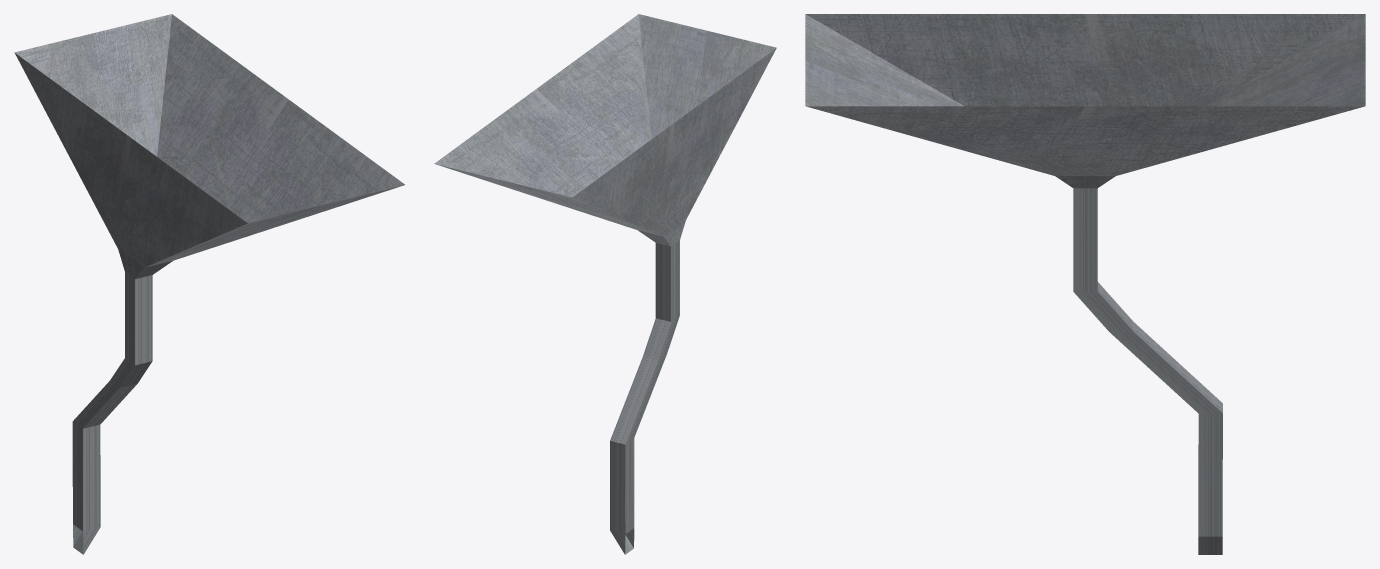
File: sistema_lluvia.fbx
3 renders of one model, left to right at view 1: azimuth 30°, elevation 25°; view 2: azimuth 150°, elevation 25°; view 3: azimuth 270°, elevation 25°, orthographic. The views are drawn at different scales.
Parts seen in each view (by area): view 1: Plane; view 2: Plane; view 3: Plane.
Part boxes in pixels (x1=…): Plane: x1=14, y1=14, x2=404, y2=554; Plane: x1=434, y1=14, x2=776, y2=554; Plane: x1=805, y1=14, x2=1365, y2=554.
Bounding box in the file's own units: 180 × 488 × 458.
